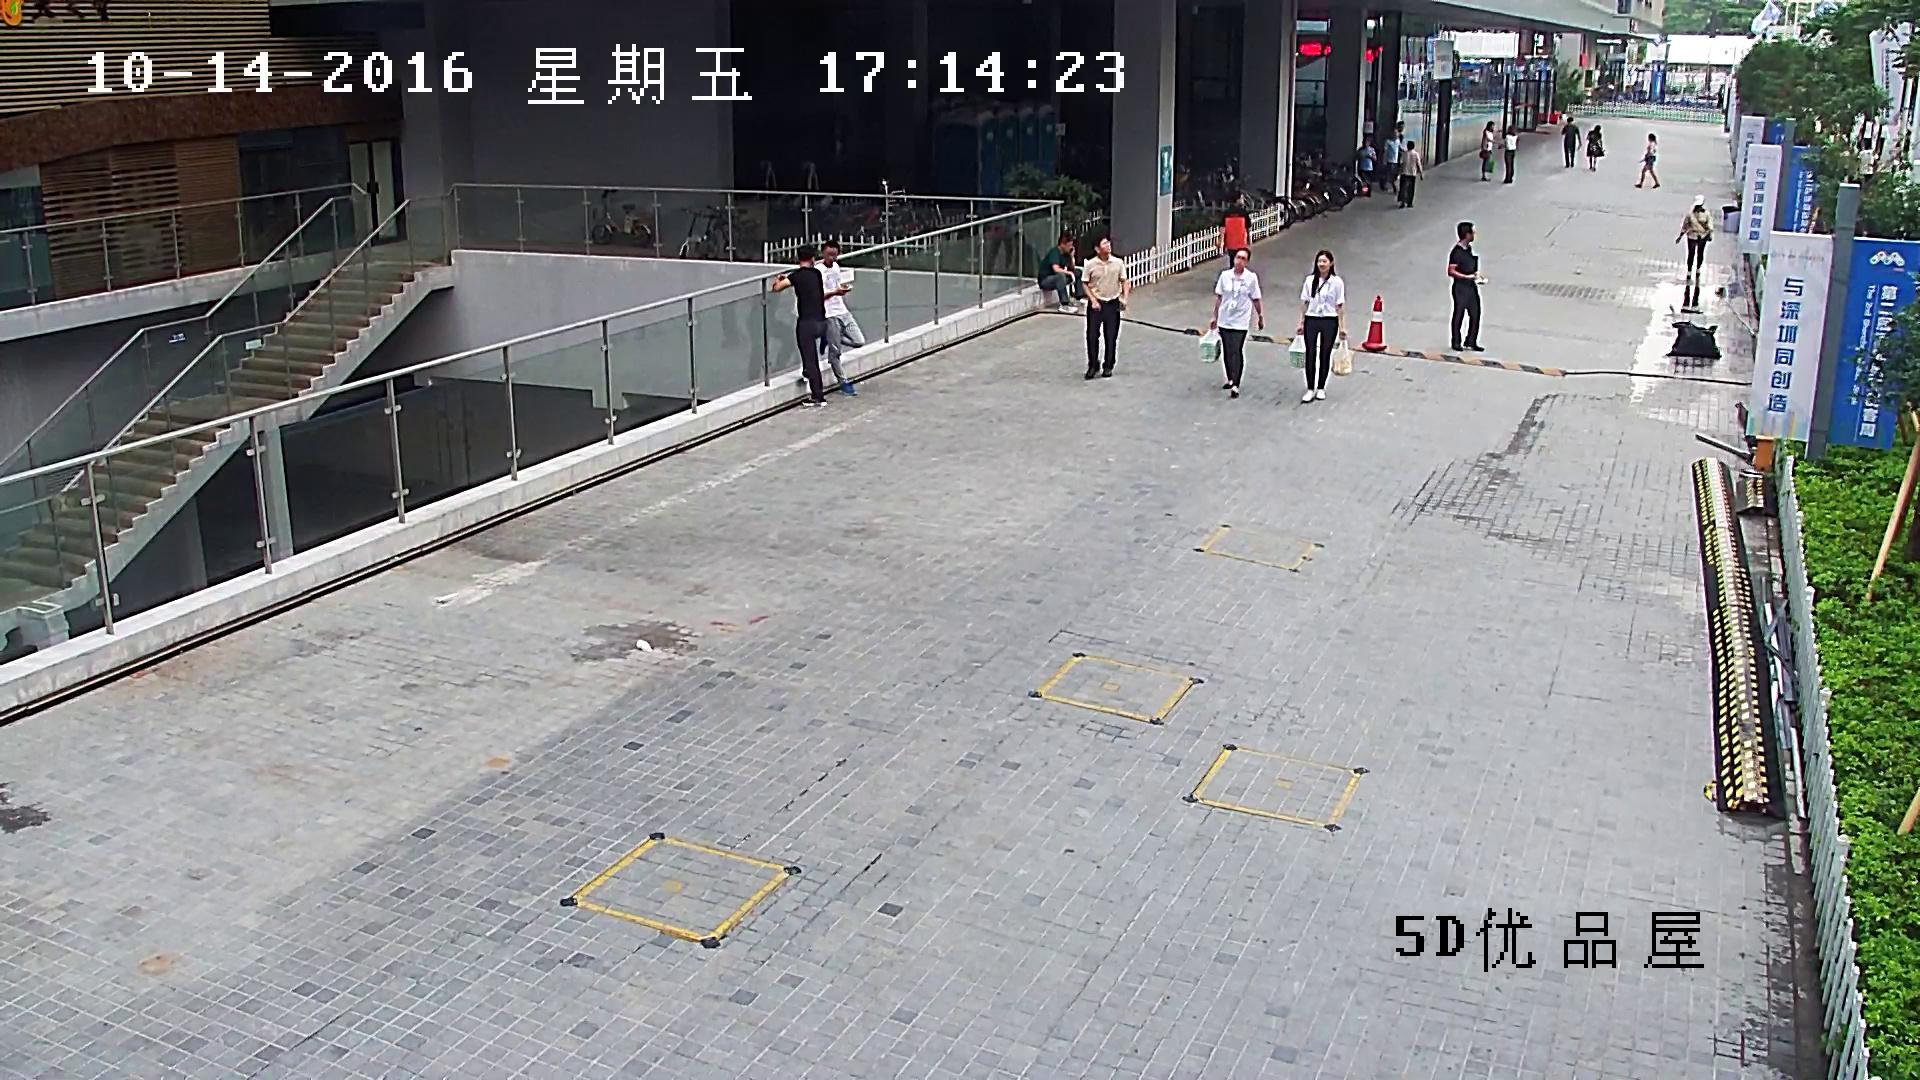person: (1287, 248, 1354, 402), (1198, 246, 1264, 399), (772, 243, 828, 407), (814, 239, 865, 397), (1296, 251, 1344, 403), (1081, 235, 1130, 380), (1447, 221, 1487, 352), (1037, 229, 1084, 315), (1675, 194, 1713, 278), (1214, 191, 1251, 270), (1397, 140, 1424, 208), (1633, 133, 1660, 188), (1356, 135, 1377, 197), (1384, 128, 1405, 192), (1561, 116, 1582, 168), (1478, 120, 1496, 181), (1586, 124, 1605, 171), (1503, 125, 1518, 183)
